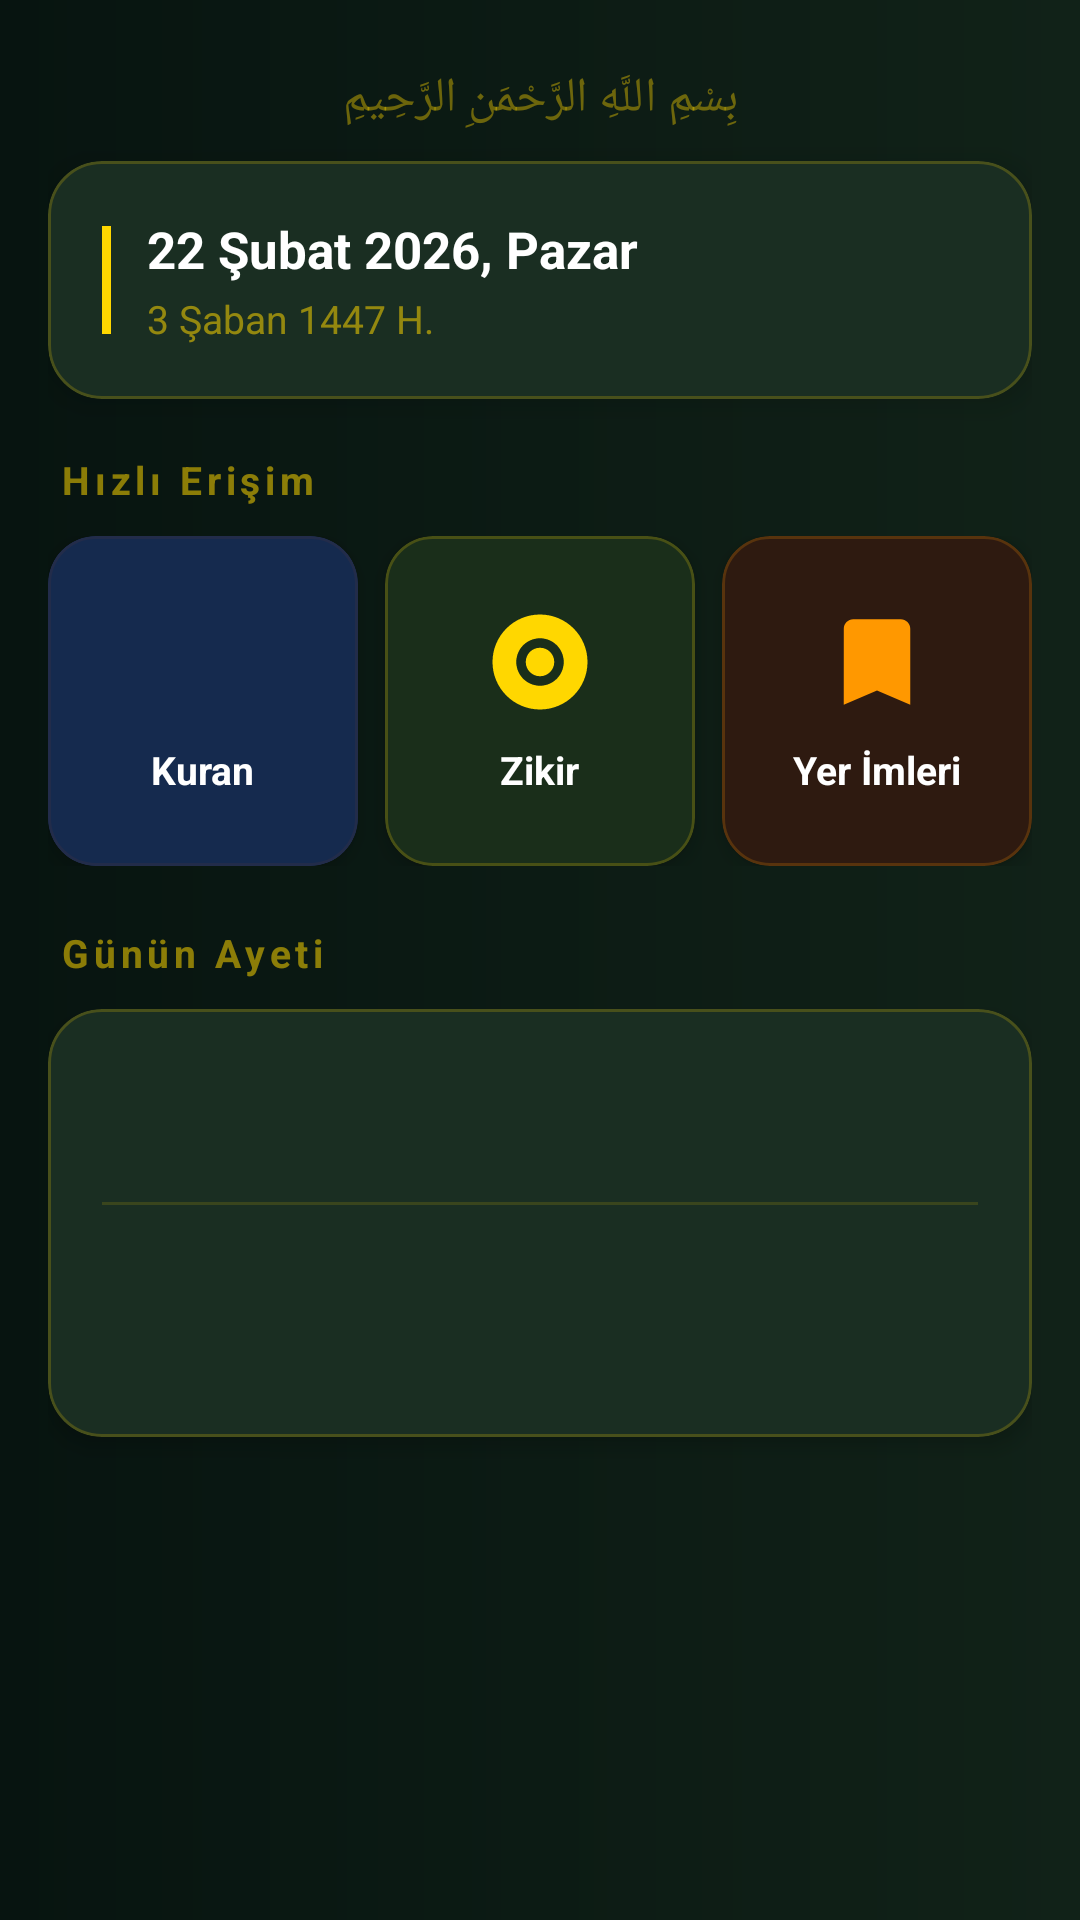

Where to tap for icons on this 1080×1920 app screen, as [x,y]:
bookmark: [877,662]
